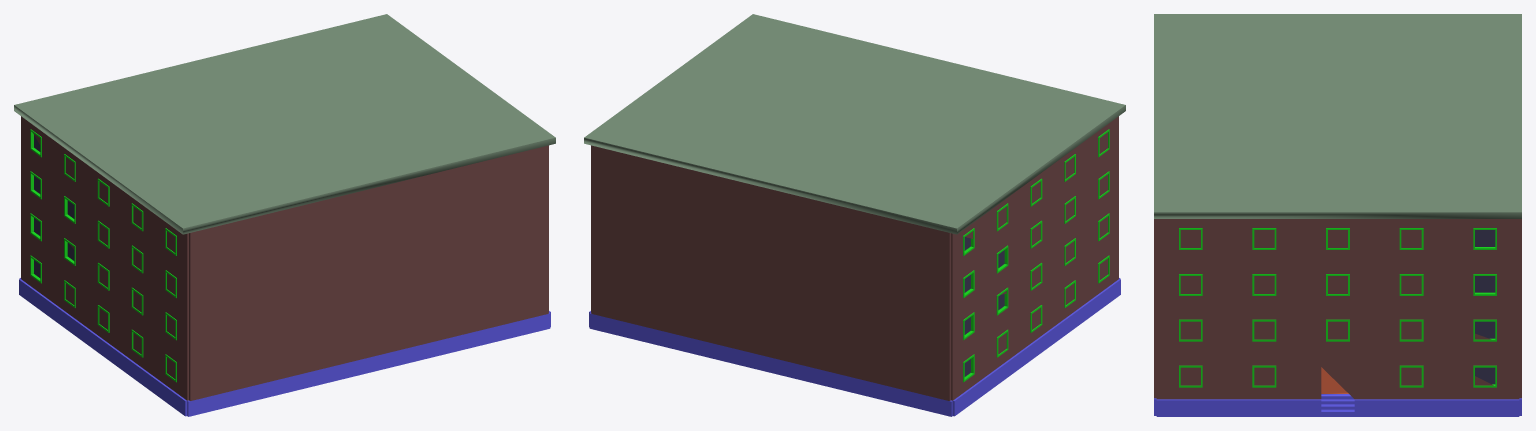
3 views of the same model, side by side, from view 1: azimuth 30°, elevation 25°; view 2: azimuth 150°, elevation 25°; view 3: azimuth 270°, elevation 25° (orthographic). The views are drawn at different scales.
Parts seen in each view (by area): view 1: BR20_F04_02; view 2: BR20_F04_02; view 3: BR20_F04_02.
Part boxes in pixels (bbox=[...]): BR20_F04_02: bbox=[14, 14, 555, 416]; BR20_F04_02: bbox=[584, 14, 1125, 416]; BR20_F04_02: bbox=[1154, 14, 1521, 416].
Size of the model in its own units: 2550 by 1240 by 2000.
